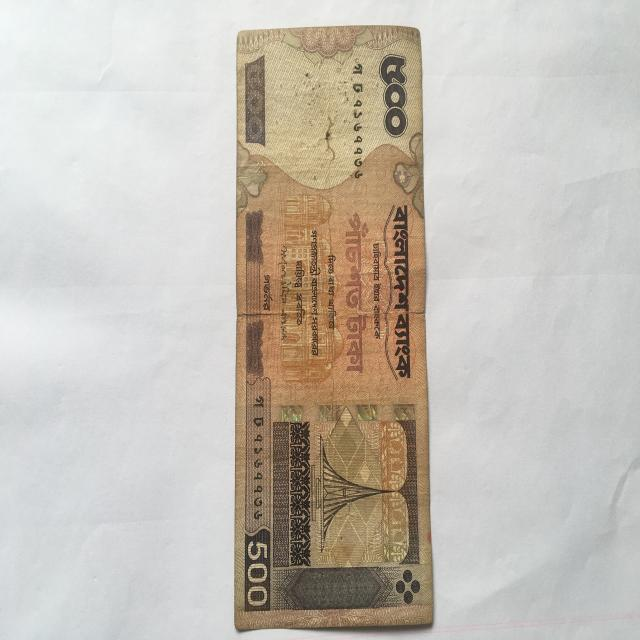Taka: (233, 21, 435, 623)
